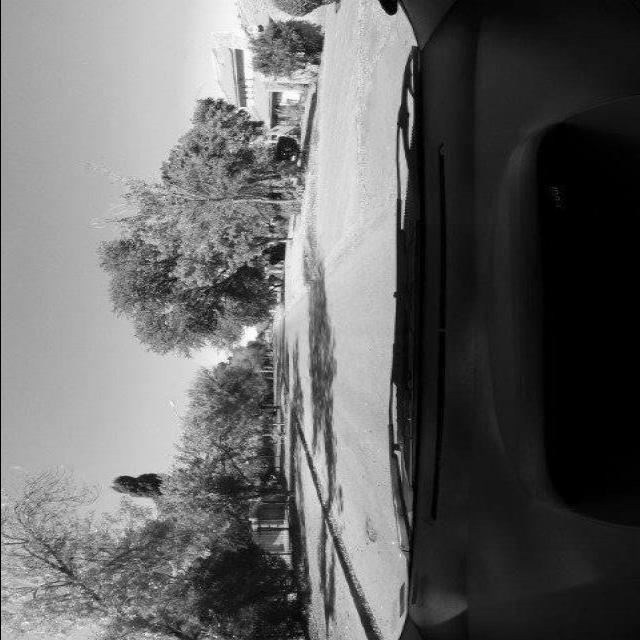lubang: (358, 514, 378, 542)
